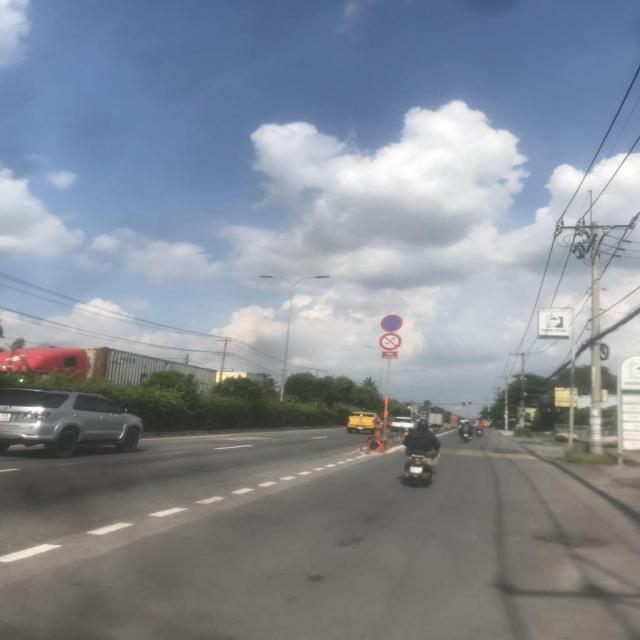cam_dung_xe_va_do_xe: (381, 315, 403, 332)
cam_xe_2_banh_va_xe_3_banh_co_dong_co: (379, 332, 401, 350)
cam_xe_di_nguoc_chieu: (423, 411, 427, 413)
huong_phai_di_vuot_chuong_ngai_vat_phai: (423, 413, 427, 417)
